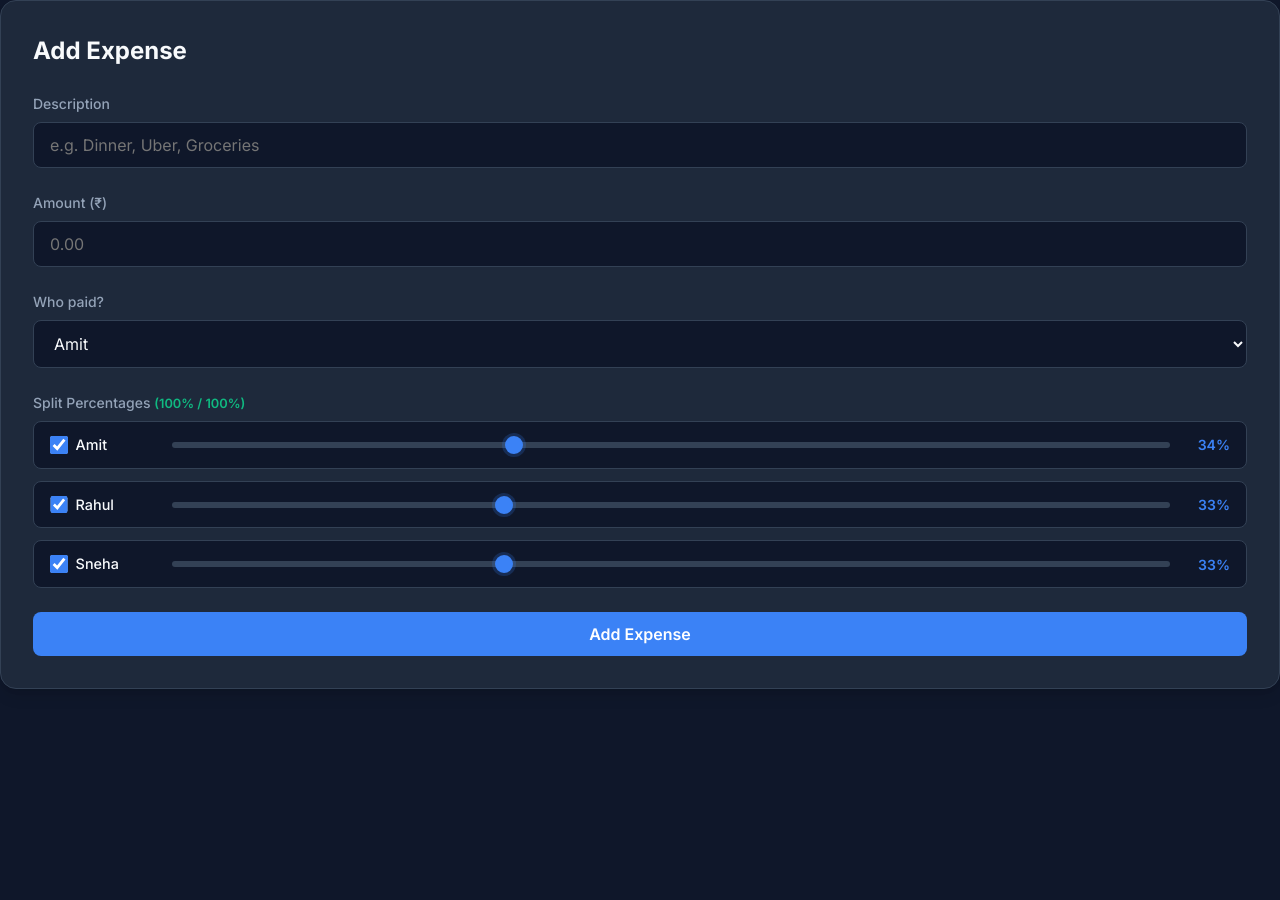
Scenario: AddExpenseForm Component › disables submit when unchecking a user makes the total drop below 100%
The image size is (1280, 900).
Note: Uncheck Sneha — her slider resets to 0, so total drops to 67%
Click the checkbox labelled "Sneha".
click(59, 564)  # box [50,555,68,573]
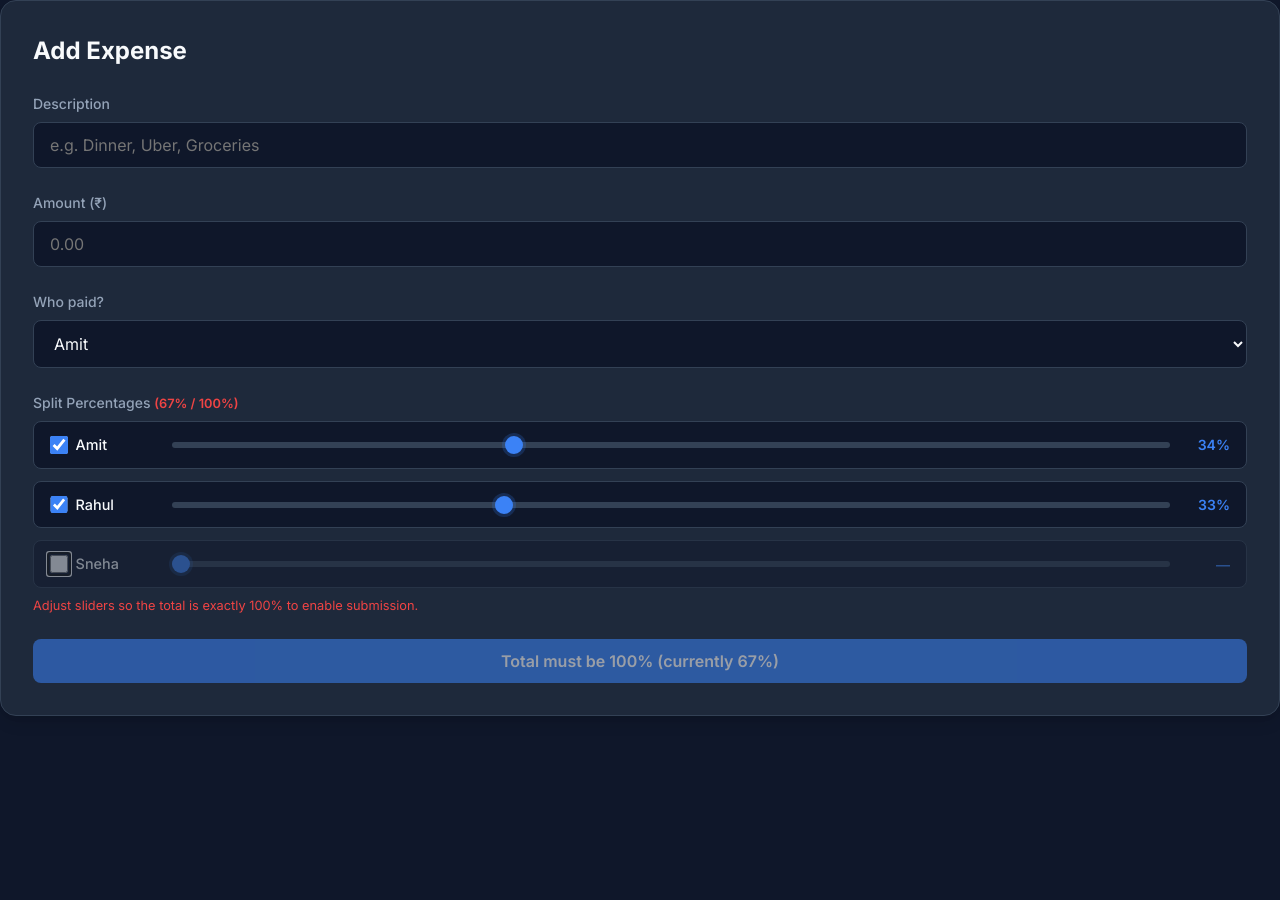
Now the button is disabled, box [33,639,1247,683]
